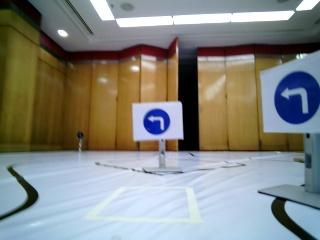left: (142, 99, 183, 136)
